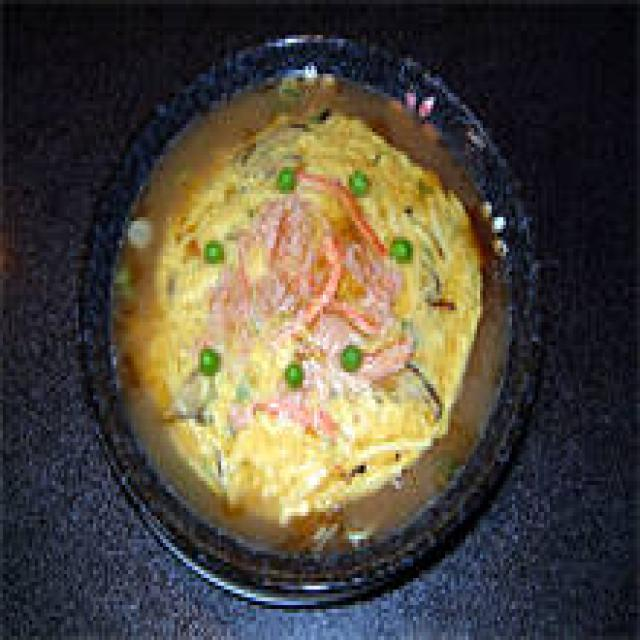面条主食: (102, 31, 512, 562)
